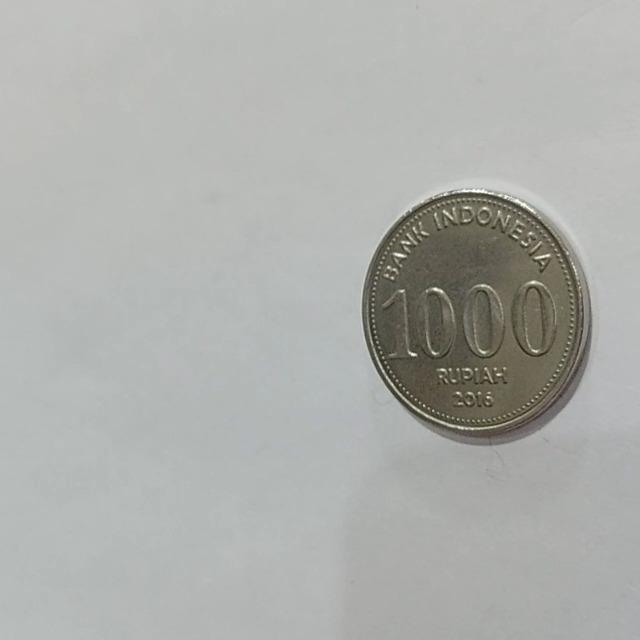Rp100: (359, 185, 592, 444)
